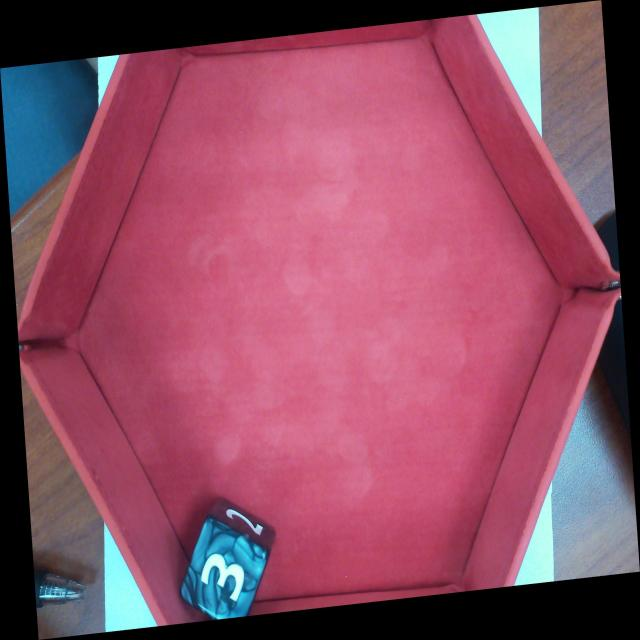dice: (181, 517, 267, 617)
